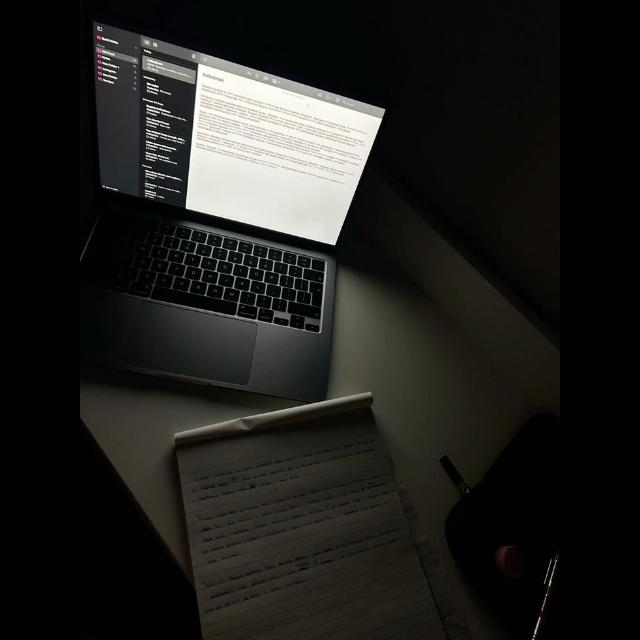laptop: (89, 22, 357, 398)
